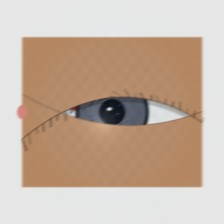hemorrhage_spot: (50, 61, 141, 134)
